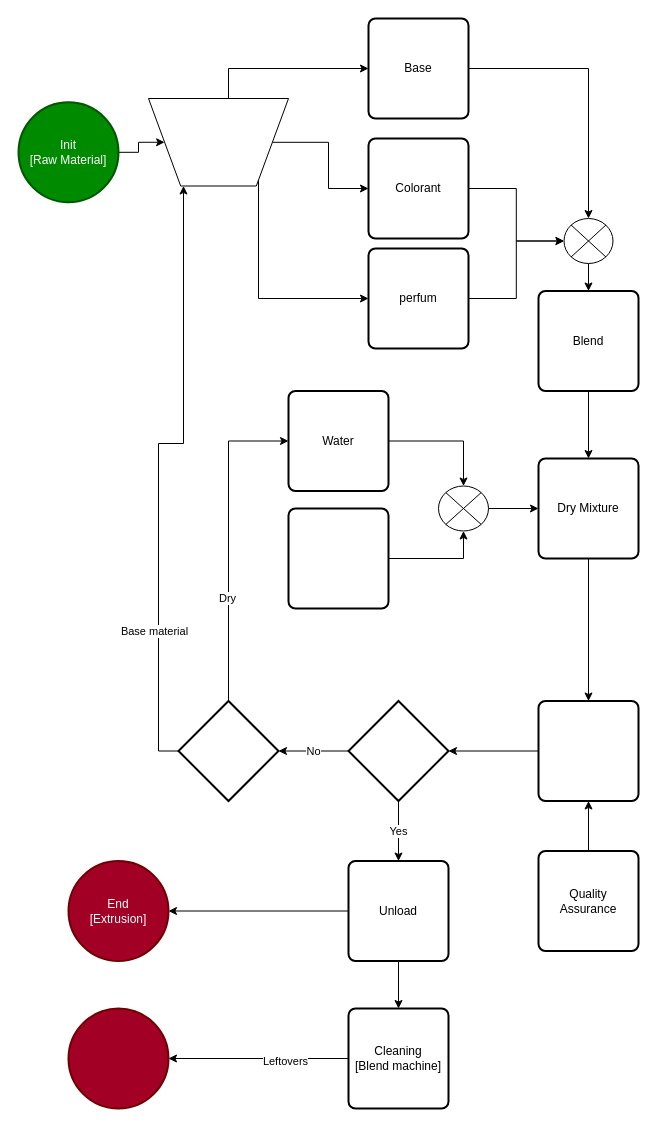
Some shapes in this 656 by 1126 pixel diagram are drawn without their labels. The shapes that lost their labels are listed below. From the top down, each one's centre as x and y in pixels, then its label:
At point 218,142: "Picking and Transporting".
At point 338,558: "Heat".
At point 228,751: "Lack of".
At point 398,751: "Approved?".
At point 588,751: "Soap Paste".
At point 118,1058: "Residue Keeper".
